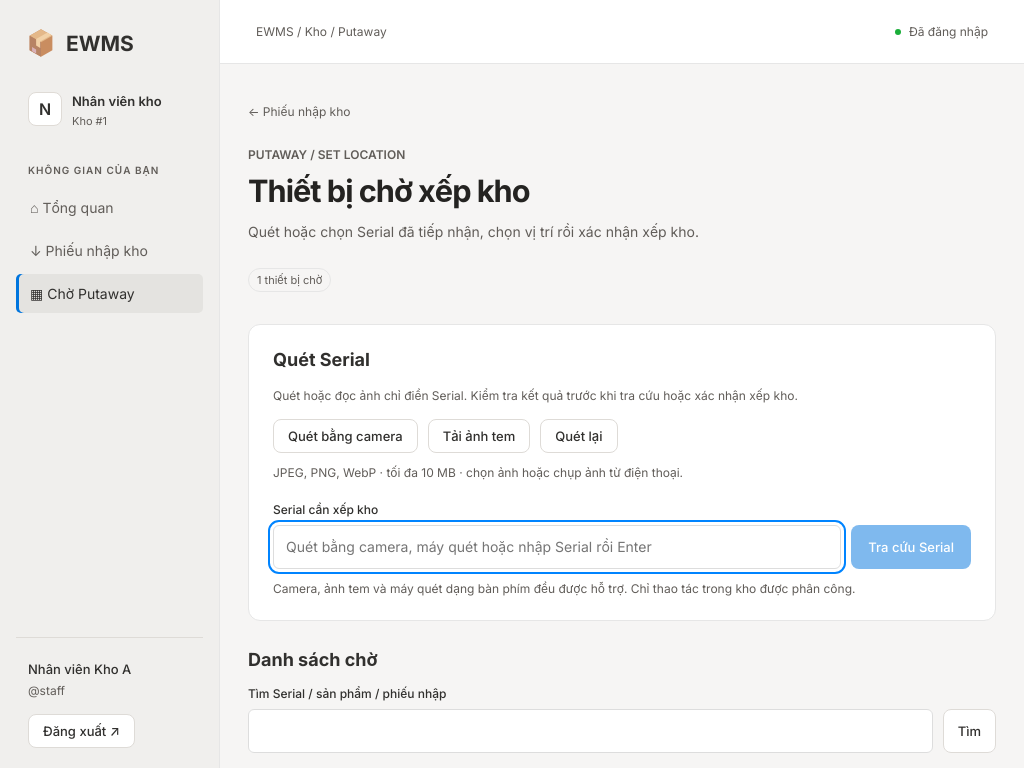
it: reports the current location on a repeated scan without requesting suggestions or writing again
The image size is (1024, 768).
Type "SN-AbC-99" into the field labelled "Serial cần xếp kho".
click(557, 547); type("SN-AbC-99")  # box [273, 525, 841, 569]
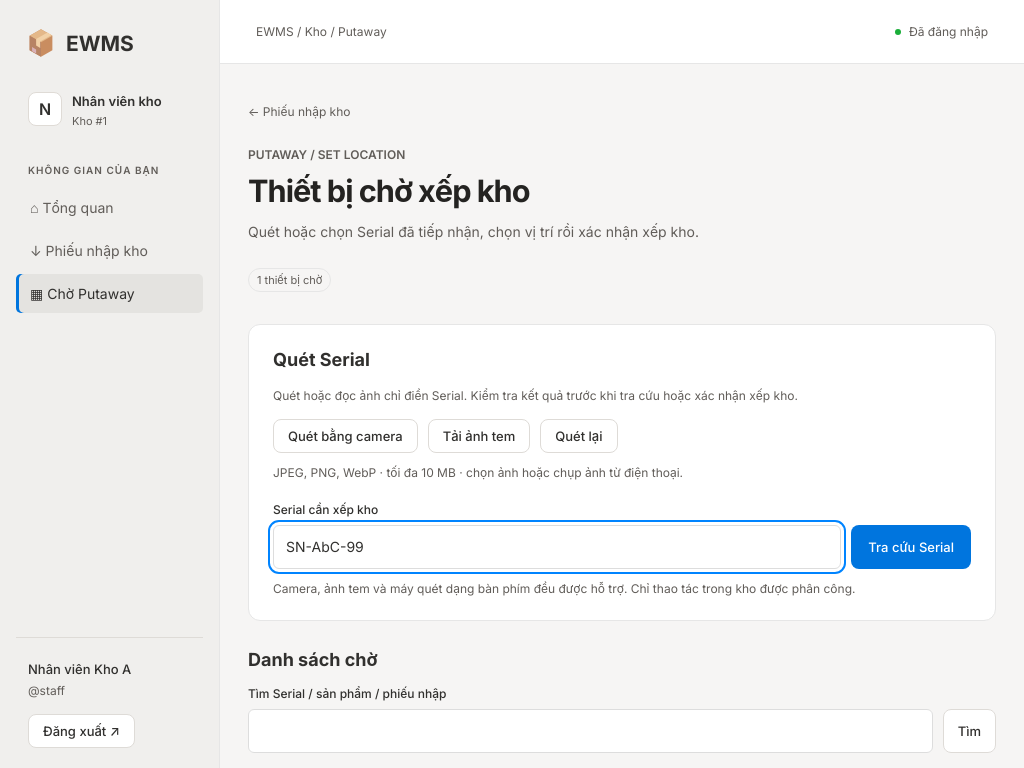
Submit the form named "Tra cứu Serial", box [273, 386, 971, 569]
(page scrolled)
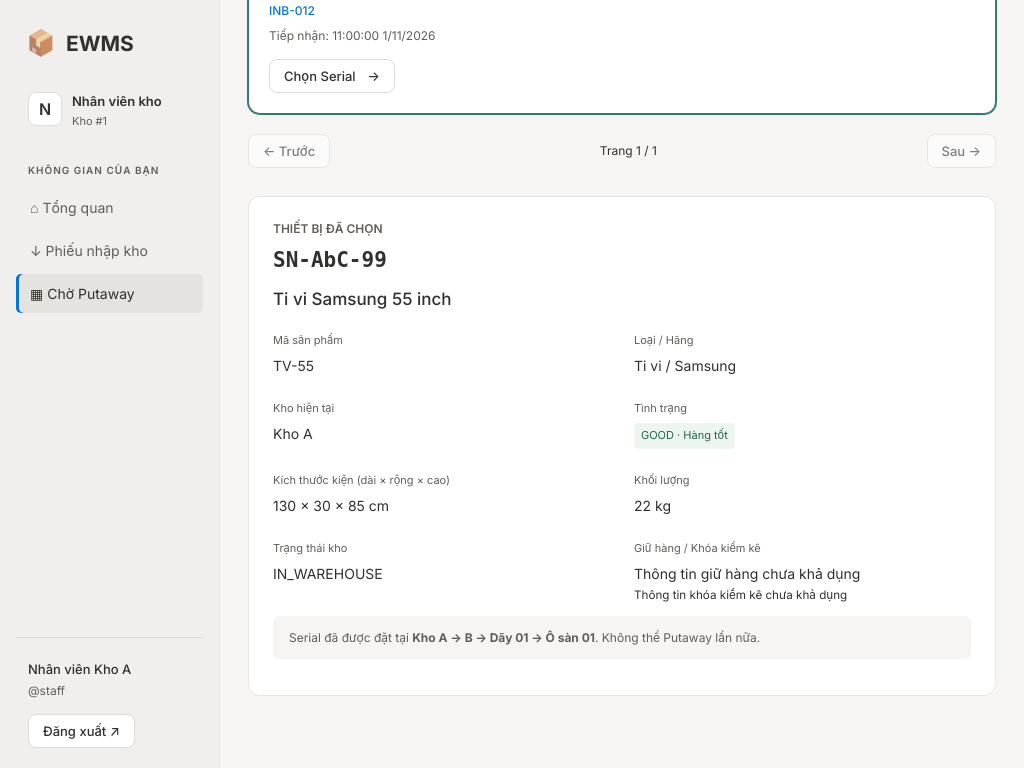
Now the text "Serial đã được đặt tại" is shown, box [289, 630, 412, 645]
